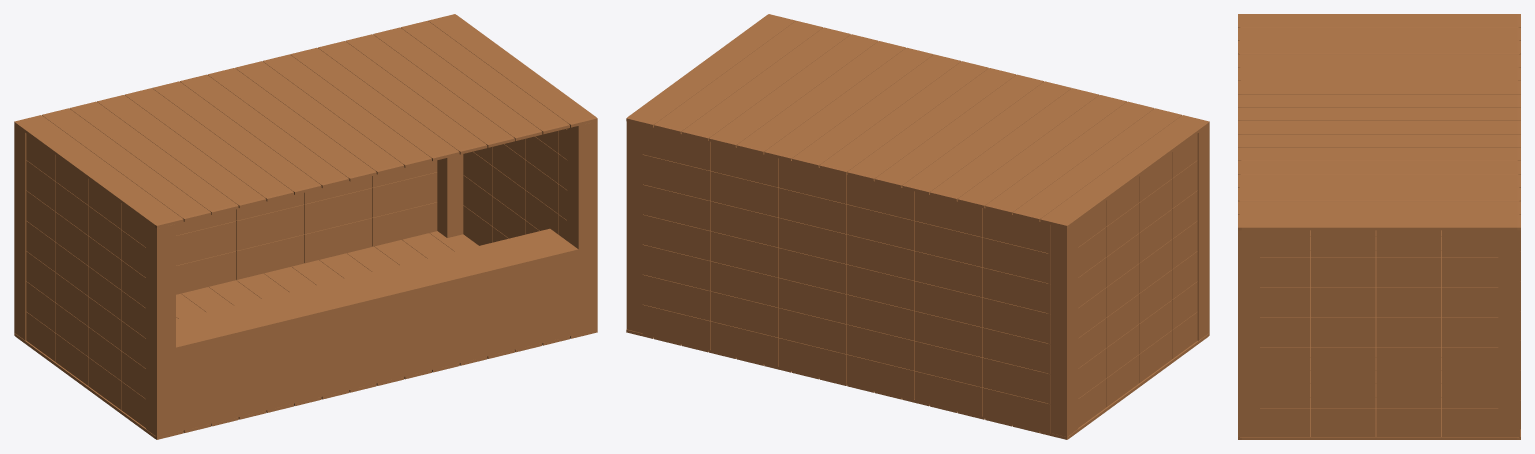
The model's file is GrassLand_Shop.fbx.
The picture shows the model from 3 angles, left to right: view 1: azimuth 30°, elevation 25°; view 2: azimuth 150°, elevation 25°; view 3: azimuth 270°, elevation 25°; orthographic projection.
Parts seen in each view (by area): view 1: GrassLand_Shop; view 2: GrassLand_Shop; view 3: GrassLand_Shop.
Part boxes in pixels (x1=…): GrassLand_Shop: x1=14, y1=14, x2=597, y2=439; GrassLand_Shop: x1=626, y1=14, x2=1209, y2=439; GrassLand_Shop: x1=1238, y1=14, x2=1520, y2=439.
Bounding box in the file's own units: 808 × 374 × 452.
